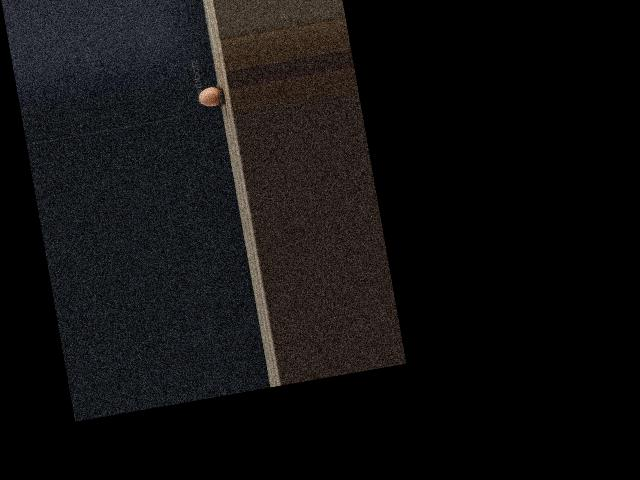egg: (197, 86, 221, 108)
